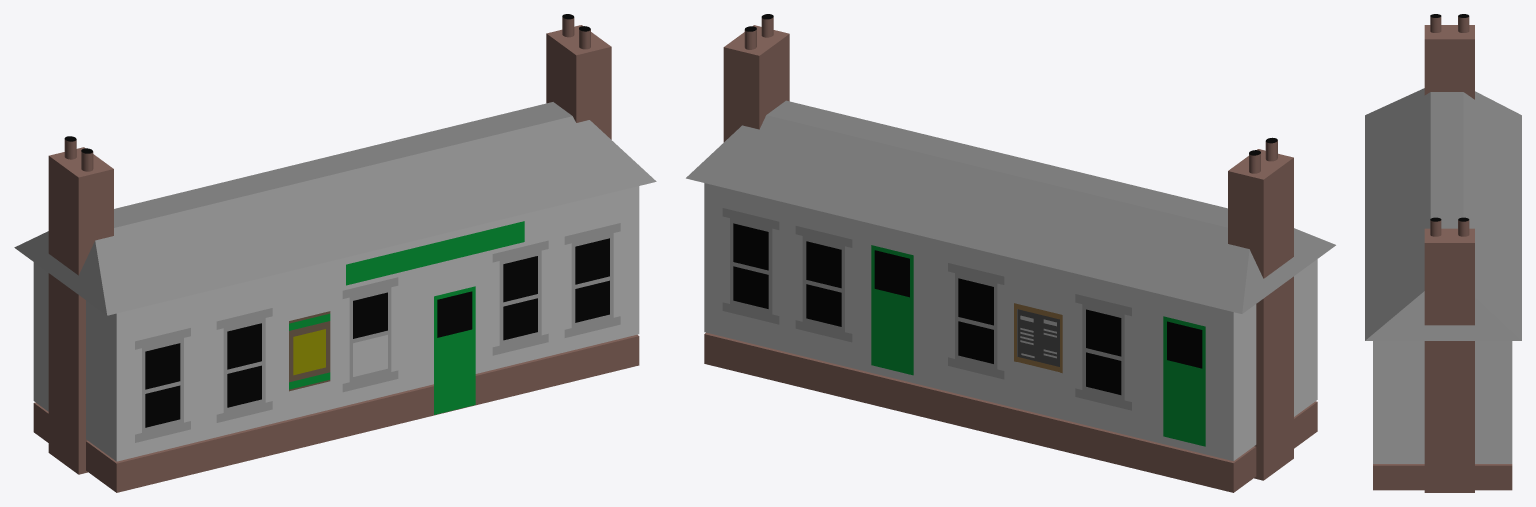
The model's file is wooden-station-large.dae.
3 views of the same model, side by side, from view 1: azimuth 30°, elevation 25°; view 2: azimuth 150°, elevation 25°; view 3: azimuth 270°, elevation 25° (orthographic). The views are drawn at different scales.
Visible parts, largest first — view 1: Cube_007, Building_body, Cube_016, Cube_014, Cube_015, Plane_199, Plane_019, Plane_197, Plane_194, Plane_188, Plane_201, Plane_191 (+2 smaller); view 2: Building_body, Cube_007, Cube_016, Cube_014, Cube_015, Plane_186, Plane_185, Plane_183, Plane_180, Plane_177, Plane_174, Plane_002; view 3: Cube_007, Cube_015, Building_body, Cube_014, Cube_016.
Part boxes in pixels (x1=…): Cube_007: x1=14, y1=102, x2=656, y2=315; Building_body: x1=33, y1=186, x2=639, y2=461; Cube_016: x1=33, y1=334, x2=639, y2=492; Cube_014: x1=48, y1=136, x2=113, y2=474; Cube_015: x1=546, y1=14, x2=611, y2=139; Plane_199: x1=434, y1=286, x2=475, y2=414; Plane_019: x1=346, y1=221, x2=524, y2=285; Plane_197: x1=571, y1=233, x2=613, y2=327; Plane_194: x1=499, y1=250, x2=541, y2=345; Plane_188: x1=223, y1=318, x2=265, y2=412; Plane_201: x1=142, y1=338, x2=183, y2=432; Plane_191: x1=349, y1=287, x2=391, y2=381; Building_body: x1=704, y1=183, x2=1317, y2=461; Cube_007: x1=686, y1=100, x2=1335, y2=313; Cube_016: x1=704, y1=332, x2=1317, y2=492; Cube_014: x1=1228, y1=137, x2=1293, y2=480; Cube_015: x1=723, y1=14, x2=789, y2=142; Plane_186: x1=1163, y1=316, x2=1205, y2=446; Plane_185: x1=871, y1=245, x2=913, y2=375; Plane_183: x1=1082, y1=304, x2=1124, y2=400; Plane_180: x1=955, y1=273, x2=997, y2=368; Plane_177: x1=802, y1=236, x2=844, y2=331; Plane_174: x1=730, y1=218, x2=772, y2=314; Plane_002: x1=1017, y1=309, x2=1059, y2=366; Cube_007: x1=1365, y1=88, x2=1521, y2=340; Cube_015: x1=1424, y1=217, x2=1474, y2=492; Building_body: x1=1373, y1=341, x2=1512, y2=463; Cube_014: x1=1424, y1=14, x2=1474, y2=99; Cube_016: x1=1373, y1=464, x2=1512, y2=490.
Bounding box in the file's own units: 7.87 × 2.31 × 4.33.
